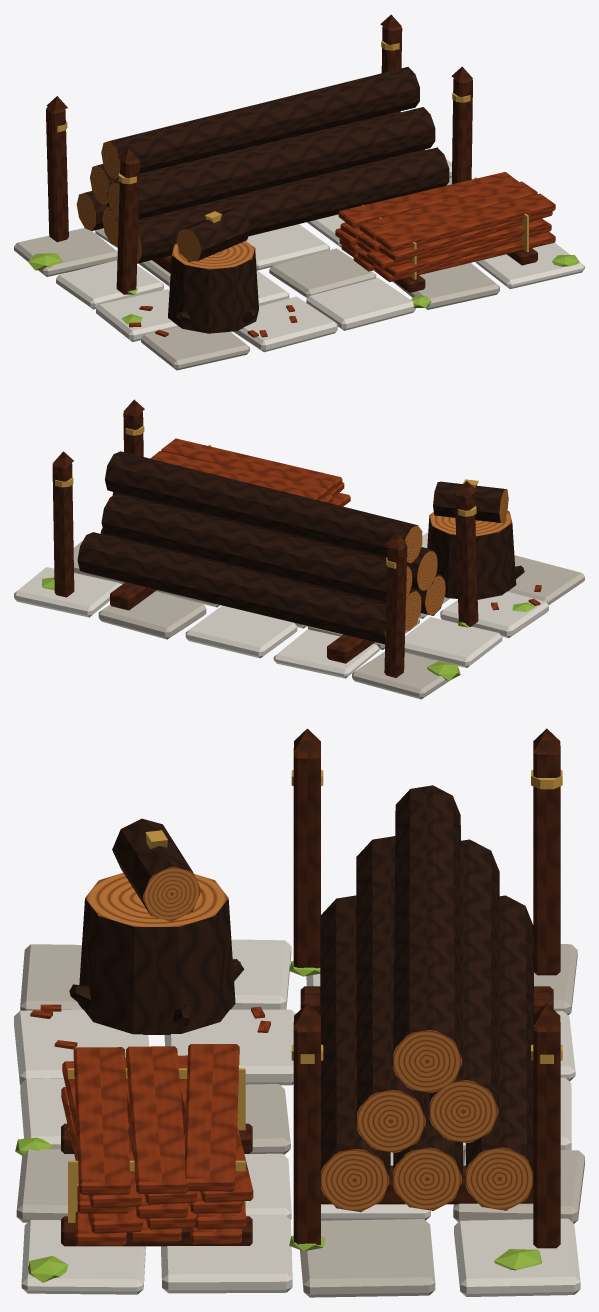
Rendered from stockpile.glb.
3 views of the same model, one above another, from view 1: azimuth 30°, elevation 25°; view 2: azimuth 150°, elevation 25°; view 3: azimuth 270°, elevation 25° (orthographic). The views are drawn at different scales.
Parts seen in each view (by area): view 1: LogRack, StoneBase, PlankStack, ChopBlock; view 2: LogRack, StoneBase, ChopBlock, PlankStack; view 3: LogRack, StoneBase, PlankStack, ChopBlock.
Boxes of the visible parts, x1=… form: LogRack: x1=46, y1=14, x2=472, y2=294; StoneBase: x1=14, y1=148, x2=584, y2=370; PlankStack: x1=335, y1=172, x2=555, y2=292; ChopBlock: x1=128, y1=208, x2=297, y2=337; LogRack: x1=52, y1=399, x2=478, y2=677; StoneBase: x1=14, y1=532, x2=584, y2=699; ChopBlock: x1=427, y1=479, x2=541, y2=610; PlankStack: x1=150, y1=438, x2=350, y2=506; LogRack: x1=289, y1=728, x2=562, y2=1251; StoneBase: x1=14, y1=939, x2=584, y2=1297; PlankStack: x1=61, y1=1044, x2=253, y2=1246; ChopBlock: x1=30, y1=818, x2=270, y2=1049.
Size of the model in its own units: 2.41 by 0.84 by 1.67.
8 materials, 4 textured.
